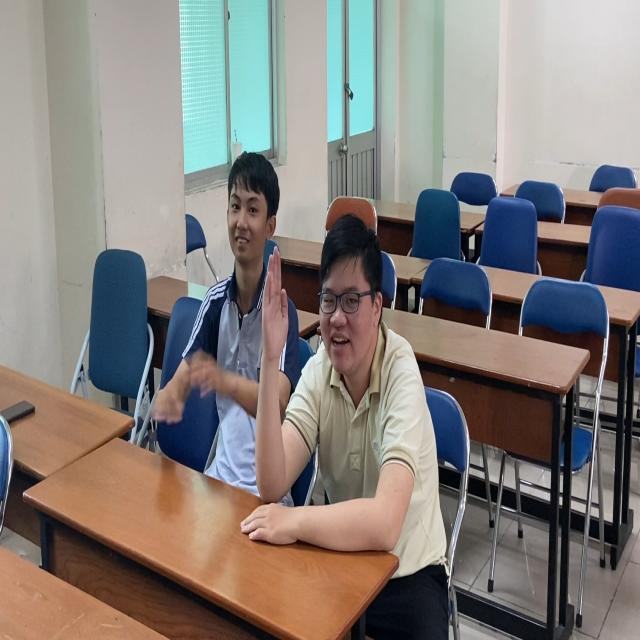raise_hand: (255, 209, 422, 551)
